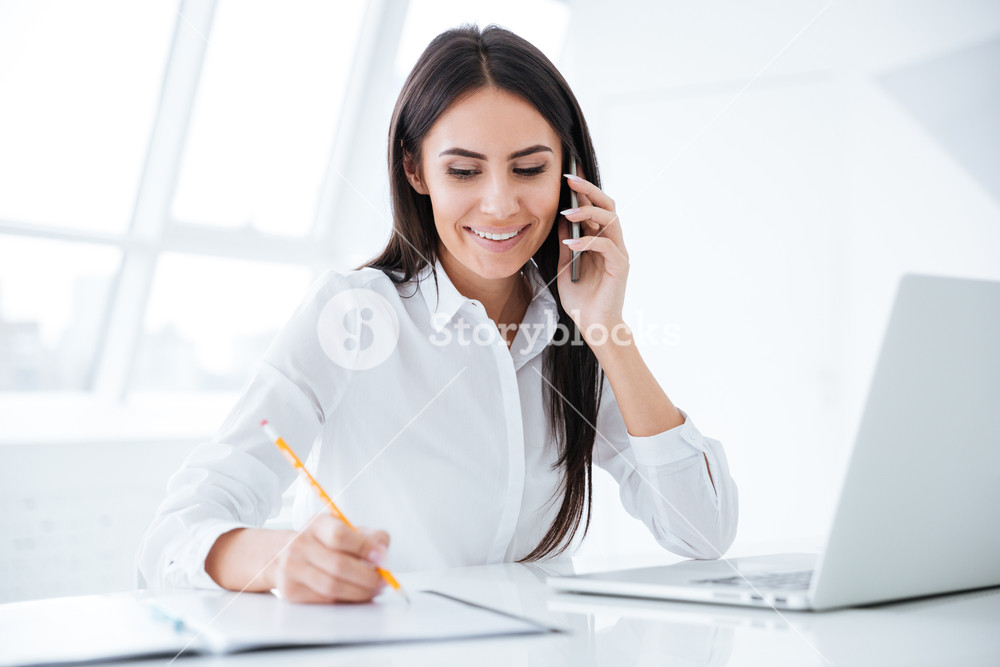phone: (546, 151, 630, 285)
talk: (427, 126, 646, 330)
